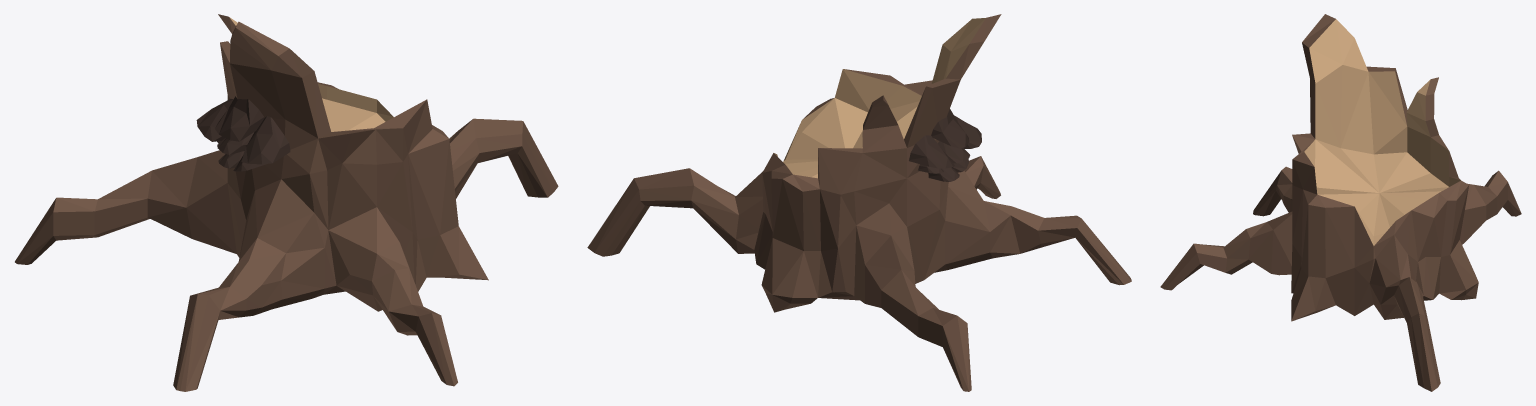
File: _STUMP_1.fbx
3 views of the same model, side by side, from view 1: azimuth 30°, elevation 25°; view 2: azimuth 150°, elevation 25°; view 3: azimuth 270°, elevation 25° (orthographic). The views are drawn at different scales.
Parts seen in each view (by area): view 1: STUMP_1; view 2: STUMP_1; view 3: STUMP_1.
Part boxes in pixels (x1,y1,x2,y2): STUMP_1: [15, 14, 558, 391]; STUMP_1: [587, 14, 1131, 391]; STUMP_1: [1160, 14, 1521, 391].
Size of the model in its own units: 242 by 143 by 201.
